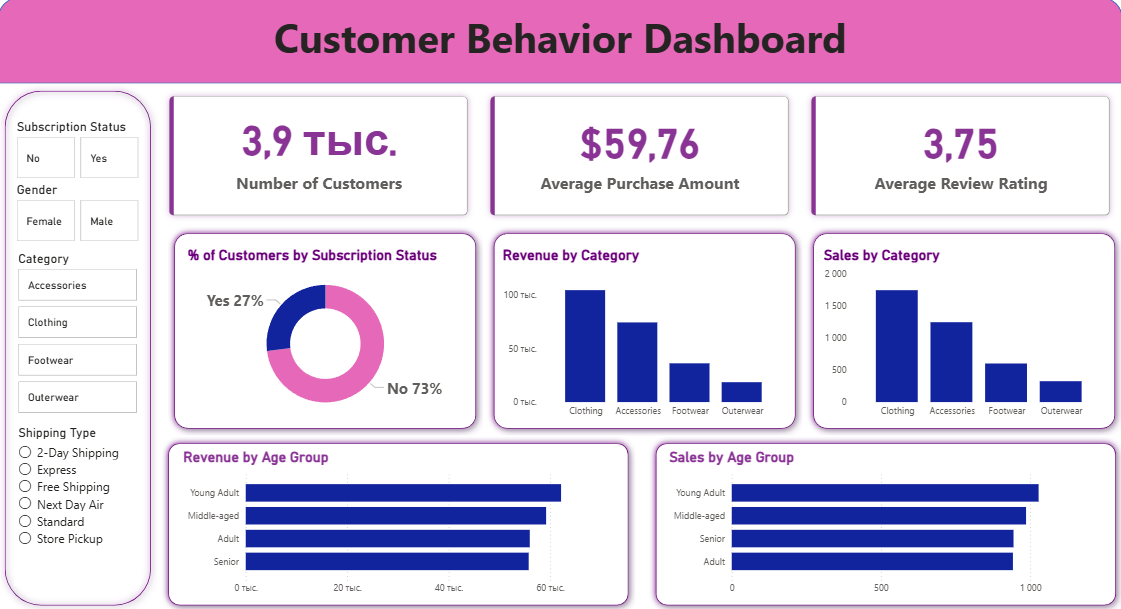

The page's visual inventory and layout, read from the dashboard file:
{"tool":"powerbi","page":{"name":"Отчет","canvas":[1280,720],"ordinal":0},"visuals":[{"type":"cardVisual","fields":{"Data":["customer_behaviour customer.Number of Customers","customer_behaviour customer.Average Purchase Amount","customer_behaviour customer.Avg_review_rating"]},"box":[228.3,133.3,1040,148.3],"z":0},{"type":"shape","box":[578.8,292.4,339.7,234.5],"z":0,"group":"g5"},{"type":"shape","box":[755,538.3,514,171.7],"z":0,"group":"g6"},{"type":"shape","box":[228.3,540,514,170],"z":0,"group":"g2"},{"type":"shape","box":[229,16.6,1040.5,104.5],"z":1000},{"type":"shape","box":[928.5,292.6,339.6,235],"z":1000,"group":"g4"},{"type":"textbox","box":[229,28.2,1040.5,81.3],"z":2000},{"type":"group","id":"g1","title":"Группа 3","box":[10,16.6,205.8,693.7],"z":3000},{"type":"group","id":"g2","title":"Группа 2","box":[228.3,540,514,170],"z":4000,"group":"g8"},{"type":"barChart","title":"          Sales by Age Group","fields":{"Category":["customer_behaviour customer.age_group"],"Y":["CountNonNull(customer_behaviour customer.customer_id)"]},"box":[763.5,546.6,497.1,163.3],"z":5000,"group":"g6"},{"type":"group","id":"g3","title":"Группа 1","box":[229,292.6,339.5,234],"z":6000,"group":"g7"},{"type":"columnChart","title":"Revenue by Category","fields":{"Category":["customer_behaviour customer.Category"],"Y":["Sum(customer_behaviour customer.purchase_amount_usd)"]},"box":[578.3,306.8,340,201.6],"z":6000,"group":"g5"},{"type":"group","id":"g4","title":"Группа 5","box":[928.3,292.6,340,235],"z":7000,"group":"g7"},{"type":"columnChart","title":"Sales by Category","fields":{"Category":["customer_behaviour customer.Category"],"Y":["CountNonNull(customer_behaviour customer.customer_id)"]},"box":[928.3,307.8,340,202.4],"z":7000,"group":"g4"},{"type":"group","id":"g5","title":"Группа 4","box":[578.3,292.4,340,235],"z":8000,"group":"g7"},{"type":"group","id":"g6","title":"Группа 6","box":[755,538.3,513.3,171.7],"z":8001,"group":"g8"},{"type":"group","id":"g7","title":"Группа 7","box":[229,292.4,1039.3,235.2],"z":8002},{"type":"group","id":"g8","title":"Группа 8","box":[228.3,538.3,1040,171.7],"z":8003},{"type":"shape","box":[10,16.6,206.7,693.3],"z":10000,"group":"g1"},{"type":"barChart","title":"Revenue by Age Group","fields":{"Y":["Sum(customer_behaviour customer.purchase_amount_usd)"],"Category":["customer_behaviour customer.age_group"]},"box":[243.7,546.6,486.7,163.4],"z":10000,"group":"g2"},{"type":"advancedSlicerVisual","title":"Subscription Status","fields":{"Values":["customer_behaviour customer.subscription_status"]},"box":[17.8,38.9,191.1,72.9],"z":11000,"group":"g1"},{"type":"advancedSlicerVisual","fields":{"Values":["customer_behaviour customer.Gender"]},"box":[17.8,138.7,191.1,74.5],"z":12000,"group":"g1"},{"type":"advancedSlicerVisual","fields":{"Values":["customer_behaviour customer.Category"]},"box":[17.8,240.2,191.1,218.6],"z":13000,"group":"g1"},{"type":"listSlicer","title":"Shipping Type","fields":{"Values":["customer_behaviour customer.shipping_type"]},"box":[17.8,485.8,191.1,215.4],"z":14000,"group":"g1"},{"type":"shape","box":[229,292.6,339,234],"z":17000,"group":"g3"},{"type":"donutChart","title":"% of Customers by Subscription Status","fields":{"Y":["CountNonNull(customer_behaviour customer.customer_id)"],"Category":["customer_behaviour customer.subscription_status"]},"box":[229.5,308.5,339,201.3],"z":17500,"group":"g3"}]}

Visuals, with their boxes on the page's 1280x720 design canvas (x1, y1, x2, y2). These are canvas units, not pixel positions in the 1121x609 screenshot, which may show the page scaled, cropped or inside an application window:
cardVisual - customer_behaviour customer.Number of Customers x customer_behaviour customer.Average Purchase Amount: detection(228, 133, 1268, 282)
shape: detection(579, 292, 918, 527)
shape: detection(755, 538, 1269, 710)
shape: detection(228, 540, 742, 710)
shape: detection(229, 17, 1270, 121)
shape: detection(928, 293, 1268, 528)
textbox: detection(229, 28, 1270, 110)
"Группа 3" group: detection(10, 17, 216, 710)
"Группа 2" group: detection(228, 540, 742, 710)
"          Sales by Age Group" barChart: detection(764, 547, 1261, 710)
"Группа 1" group: detection(229, 293, 568, 527)
"Revenue by Category" columnChart: detection(578, 307, 918, 508)
"Группа 5" group: detection(928, 293, 1268, 528)
"Sales by Category" columnChart: detection(928, 308, 1268, 510)
"Группа 4" group: detection(578, 292, 918, 527)
"Группа 6" group: detection(755, 538, 1268, 710)
"Группа 7" group: detection(229, 292, 1268, 528)
"Группа 8" group: detection(228, 538, 1268, 710)
shape: detection(10, 17, 217, 710)
"Revenue by Age Group" barChart: detection(244, 547, 730, 710)
"Subscription Status" advancedSlicerVisual: detection(18, 39, 209, 112)
advancedSlicerVisual - customer_behaviour customer.Gender: detection(18, 139, 209, 213)
advancedSlicerVisual - customer_behaviour customer.Category: detection(18, 240, 209, 459)
"Shipping Type" listSlicer: detection(18, 486, 209, 701)
shape: detection(229, 293, 568, 527)
"% of Customers by Subscription Status" donutChart: detection(230, 308, 568, 510)
